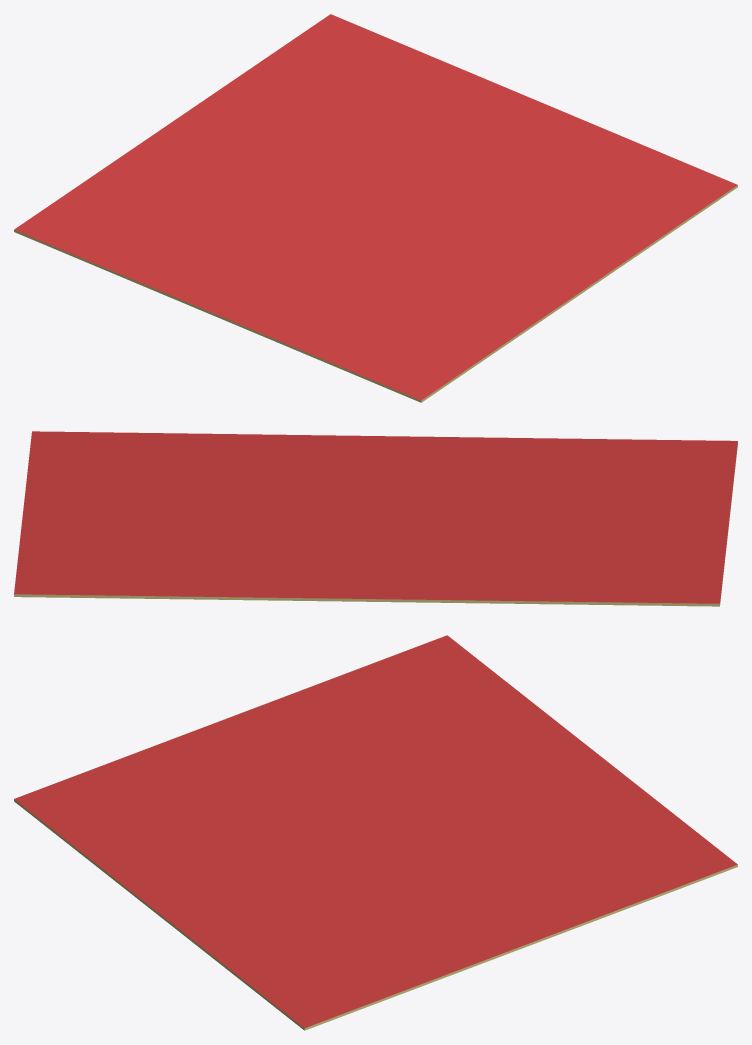
3 views of the same model, one above another, from view 1: azimuth 30°, elevation 25°; view 2: azimuth 150°, elevation 25°; view 3: azimuth 270°, elevation 25° (orthographic). The views are drawn at different scales.
Size of the model in its own units: 28.75 by 26.87 by 2.79.
